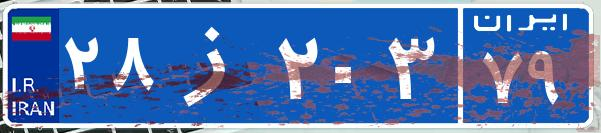0: (330, 28, 385, 110)
2: (273, 28, 330, 110), (57, 26, 110, 107)
3: (385, 28, 445, 110)
7: (475, 38, 525, 113)
8: (110, 28, 158, 105)
9: (525, 38, 570, 115)
ز: (158, 15, 273, 115)
